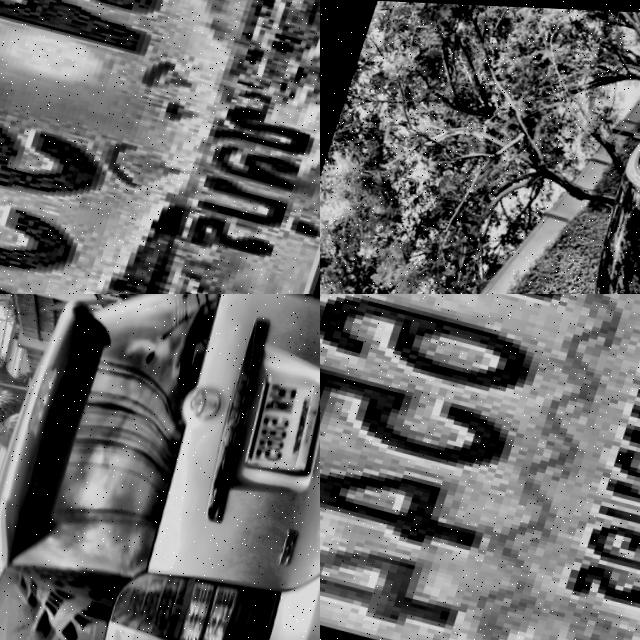license-plate: (320, 294, 640, 640), (0, 0, 320, 294), (231, 364, 320, 479)
